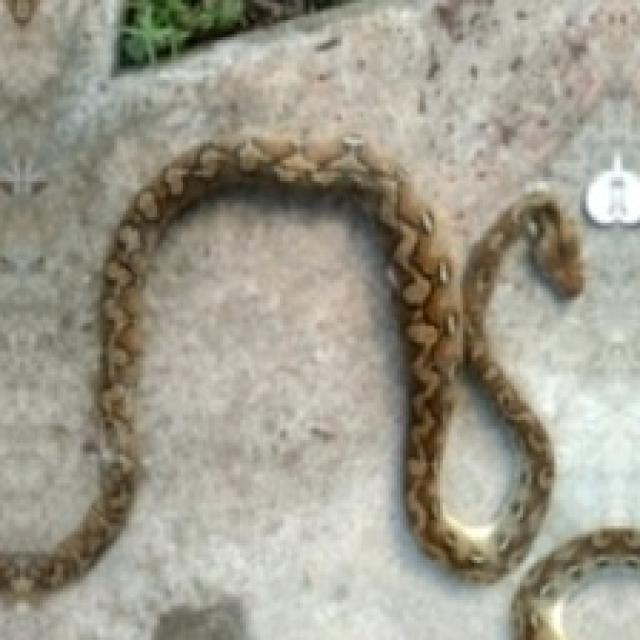reticulated python: (0, 134, 580, 594)
